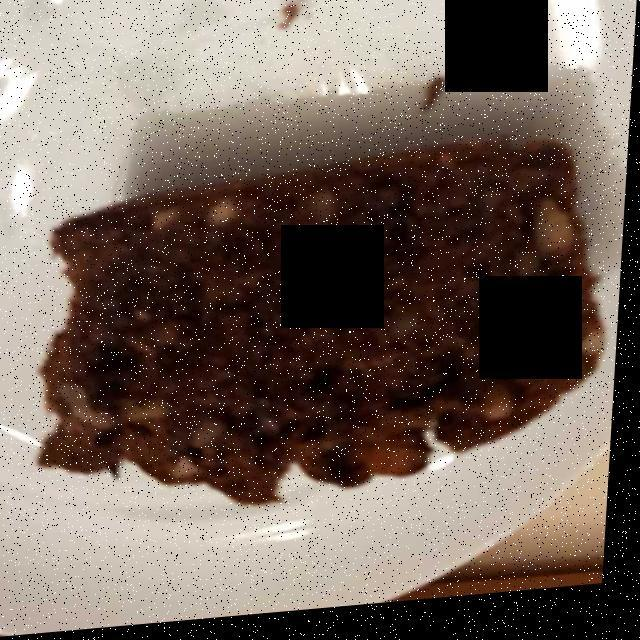cake: (46, 155, 598, 503)
